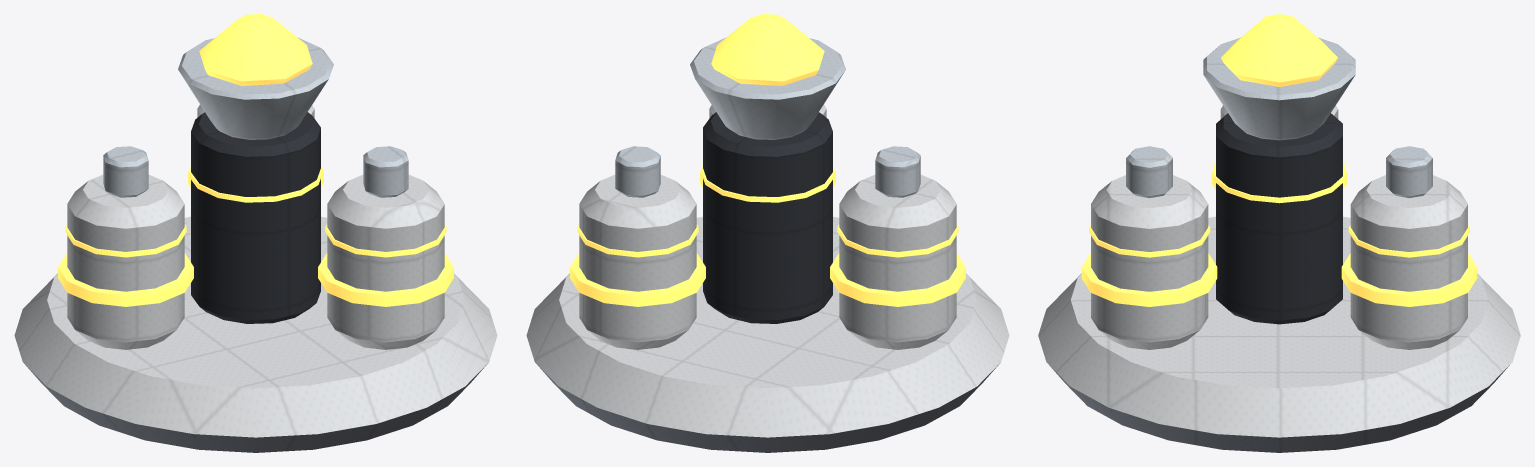
Rendered from R4D_BurnTrap.glb.
3 views of the same model, side by side, from view 1: azimuth 30°, elevation 25°; view 2: azimuth 150°, elevation 25°; view 3: azimuth 270°, elevation 25° (orthographic).
Visible parts, largest first — view 1: R4D_BurnTrap_Body, R4D_BurnTrap_Flame; view 2: R4D_BurnTrap_Body, R4D_BurnTrap_Flame; view 3: R4D_BurnTrap_Body, R4D_BurnTrap_Flame.
Part boxes in pixels (box(x1,y1,x2,y2)): R4D_BurnTrap_Body: box(14, 37, 497, 452); R4D_BurnTrap_Flame: box(199, 14, 312, 85); R4D_BurnTrap_Body: box(526, 37, 1009, 452); R4D_BurnTrap_Flame: box(711, 14, 824, 85); R4D_BurnTrap_Body: box(1038, 37, 1520, 452); R4D_BurnTrap_Flame: box(1221, 14, 1337, 86).
Size of the model in its own units: 0.37 by 0.288 by 0.37.
5 materials, 4 textured.
